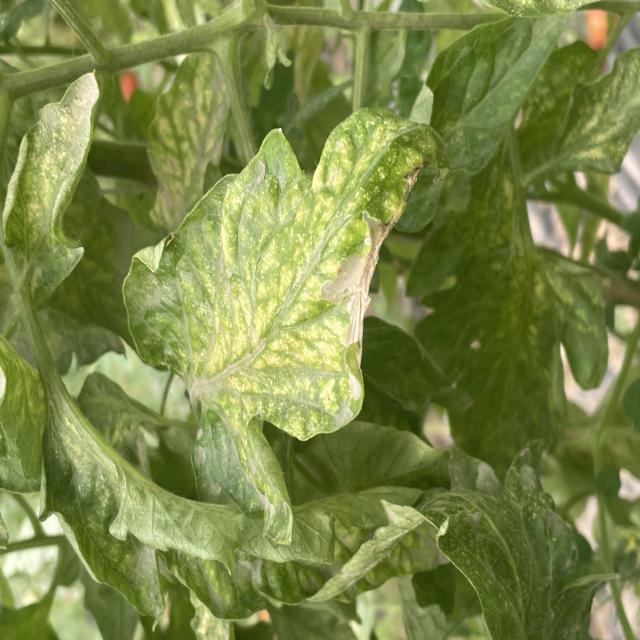Tuta absoluta: (311, 202, 399, 350)
